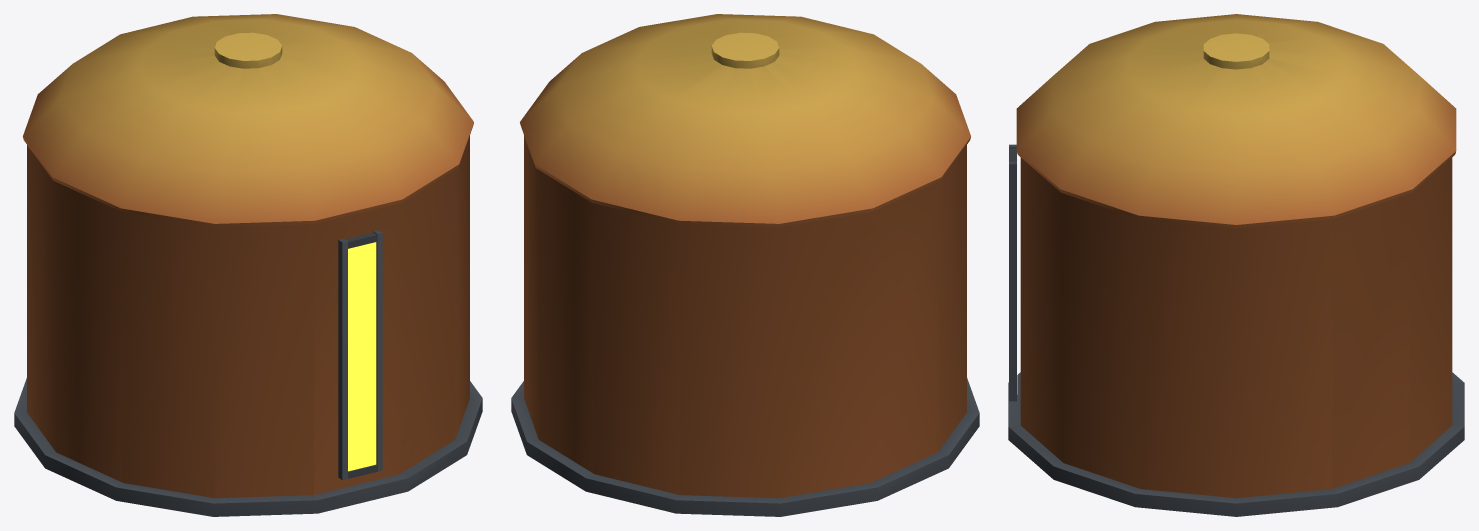
Rendered from prop.honey_tank.lod1.glb.
3 views of the same model, side by side, from view 1: azimuth 30°, elevation 25°; view 2: azimuth 150°, elevation 25°; view 3: azimuth 270°, elevation 25° (orthographic).
Visible parts, largest first — view 1: honey_tank; view 2: honey_tank; view 3: honey_tank.
Part boxes in pixels (bbox=[...]): honey_tank: bbox=[14, 14, 482, 516]; honey_tank: bbox=[511, 14, 979, 516]; honey_tank: bbox=[1008, 14, 1464, 516].
Bounding box in the file's own units: 22.2 × 19.45 × 21.64.
